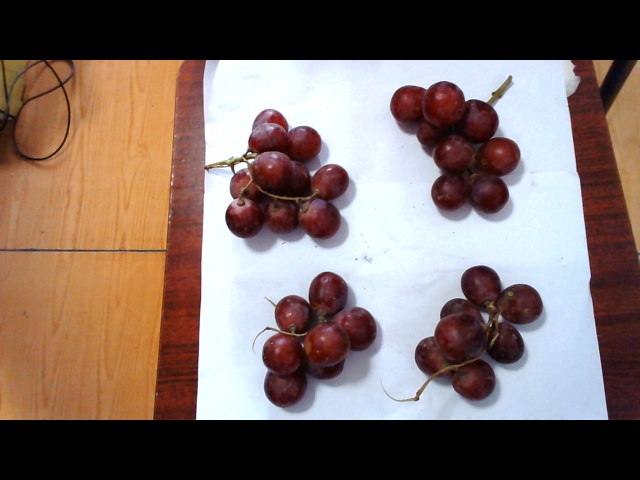grape: (407, 252, 543, 403), (389, 78, 524, 213), (251, 270, 381, 406), (223, 101, 337, 245)
